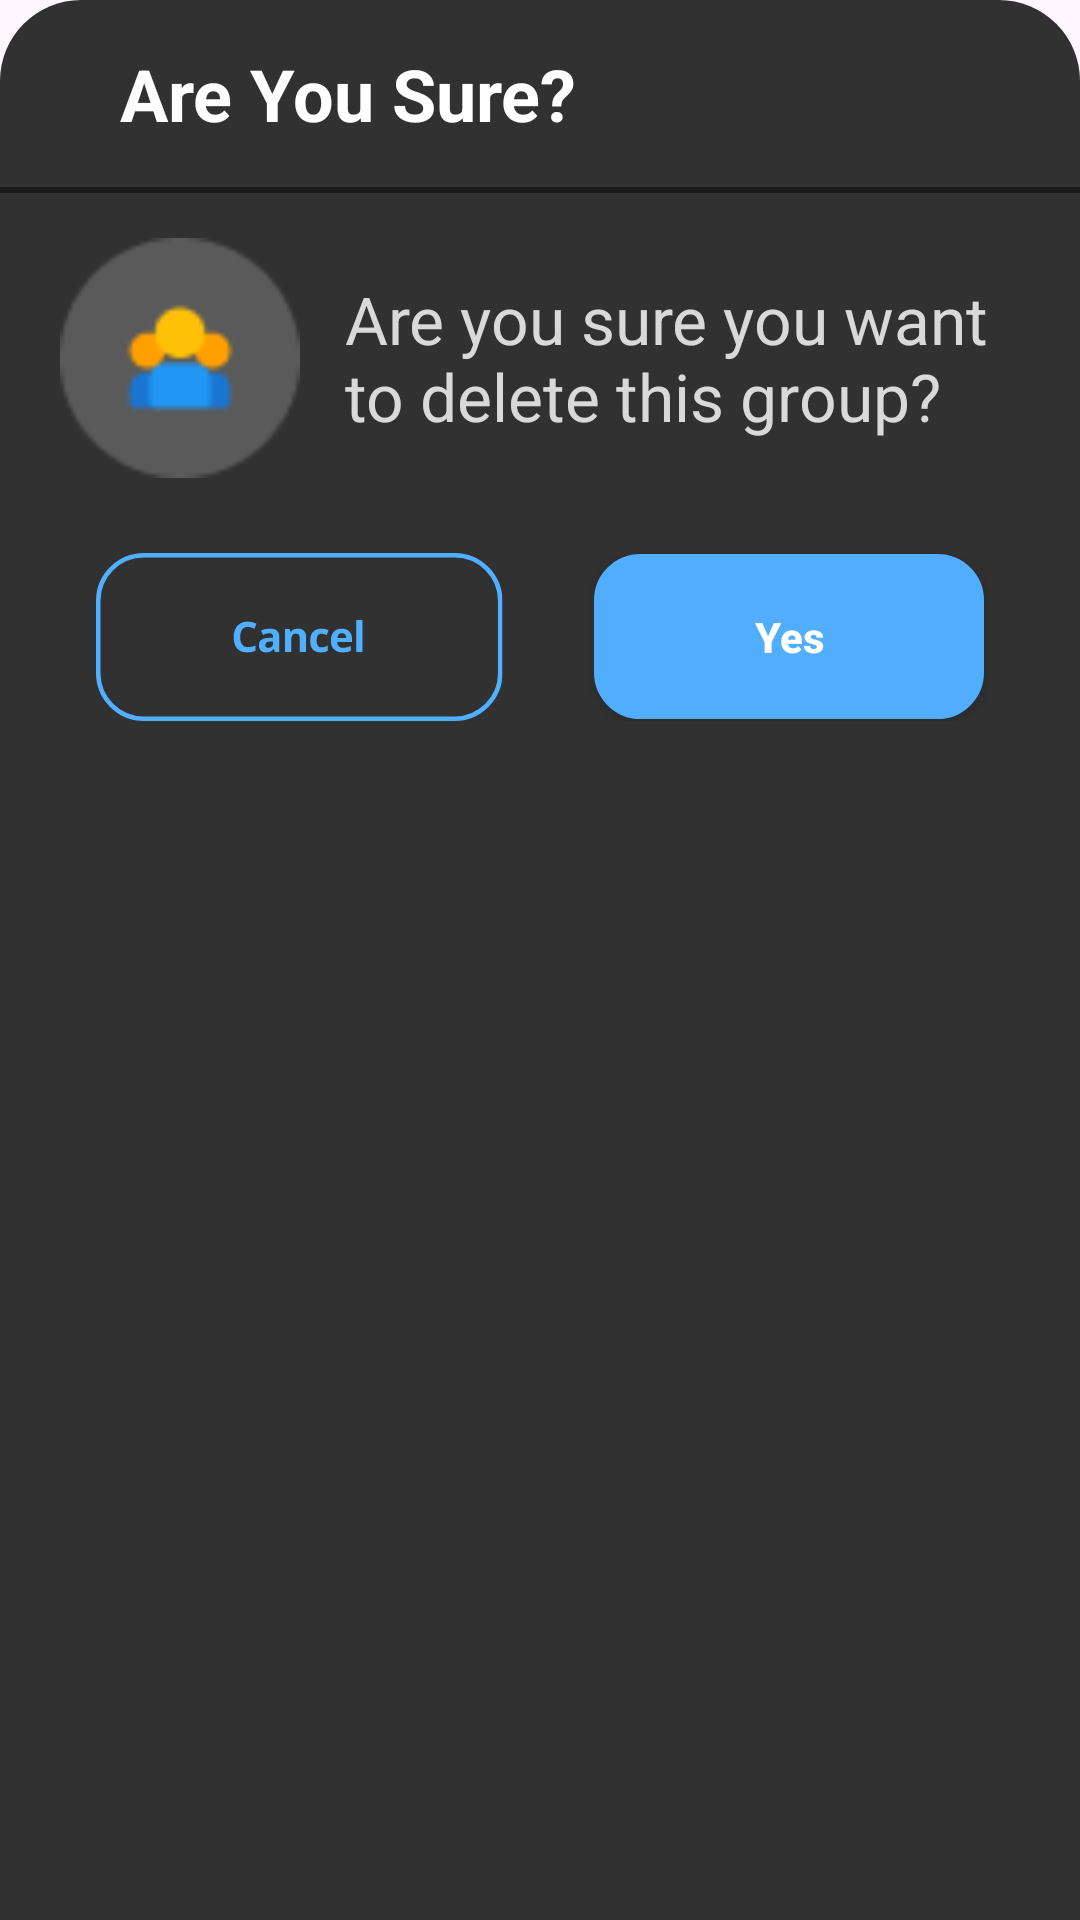

Locate icon controls on the screen. Image size 1080px×1920px, boxes as (x1, y1, x2, y2).
empty group: (60, 238, 300, 478)
